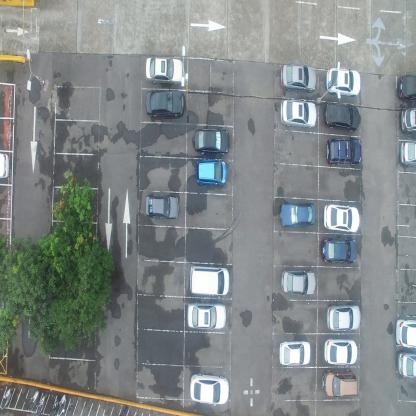car: (189, 264, 230, 298), (189, 372, 230, 406), (278, 59, 317, 91), (278, 96, 317, 127), (187, 301, 227, 331), (322, 203, 360, 234), (145, 56, 184, 86), (145, 89, 184, 118), (326, 304, 362, 335), (324, 101, 360, 132), (279, 268, 316, 298), (324, 66, 361, 96), (325, 136, 362, 166), (323, 338, 358, 368), (144, 192, 179, 221), (321, 237, 357, 265), (322, 371, 357, 399), (193, 128, 230, 154), (195, 157, 227, 187), (278, 339, 312, 367), (279, 201, 315, 227), (394, 315, 416, 349), (397, 73, 415, 103), (396, 352, 416, 379), (398, 140, 416, 167), (399, 107, 415, 135), (0, 150, 10, 180)
